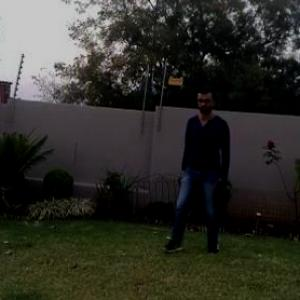follow: (178, 90, 232, 247)
